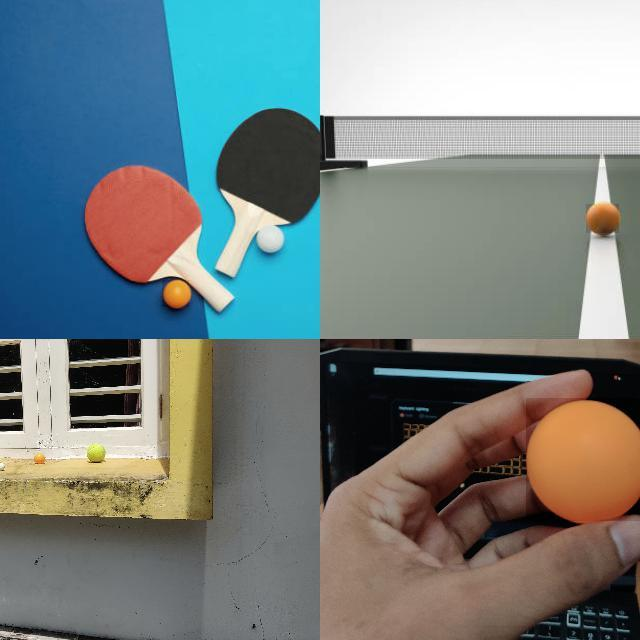ping-pong-ball: (526, 398, 639, 522), (586, 204, 620, 234), (162, 280, 190, 308), (34, 453, 46, 463)
